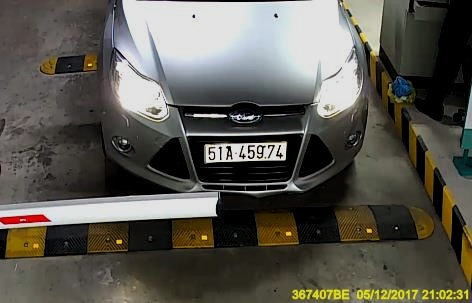plate: (199, 136, 294, 167)
